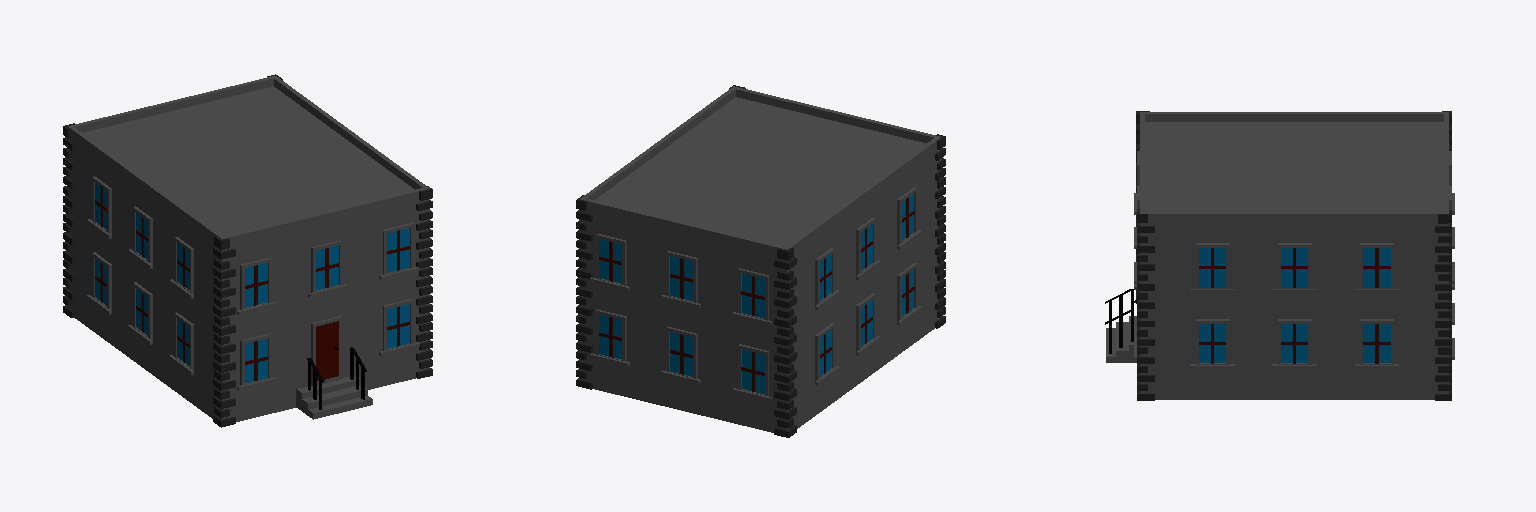
File: Bloque2.obj
3 renders of one model, left to right at view 1: azimuth 30°, elevation 25°; view 2: azimuth 150°, elevation 25°; view 3: azimuth 270°, elevation 25°, orthographic.
Parts seen in each view (by area): view 1: Cube.003; view 2: Cube.003; view 3: Cube.003.
Boxes of the visible parts, box(x1,y1,x2,y2) form: Cube.003: box(63, 74, 432, 427); Cube.003: box(576, 85, 945, 437); Cube.003: box(1105, 111, 1454, 400).
Size of the model in its own units: 14.73 by 12 by 20.41.